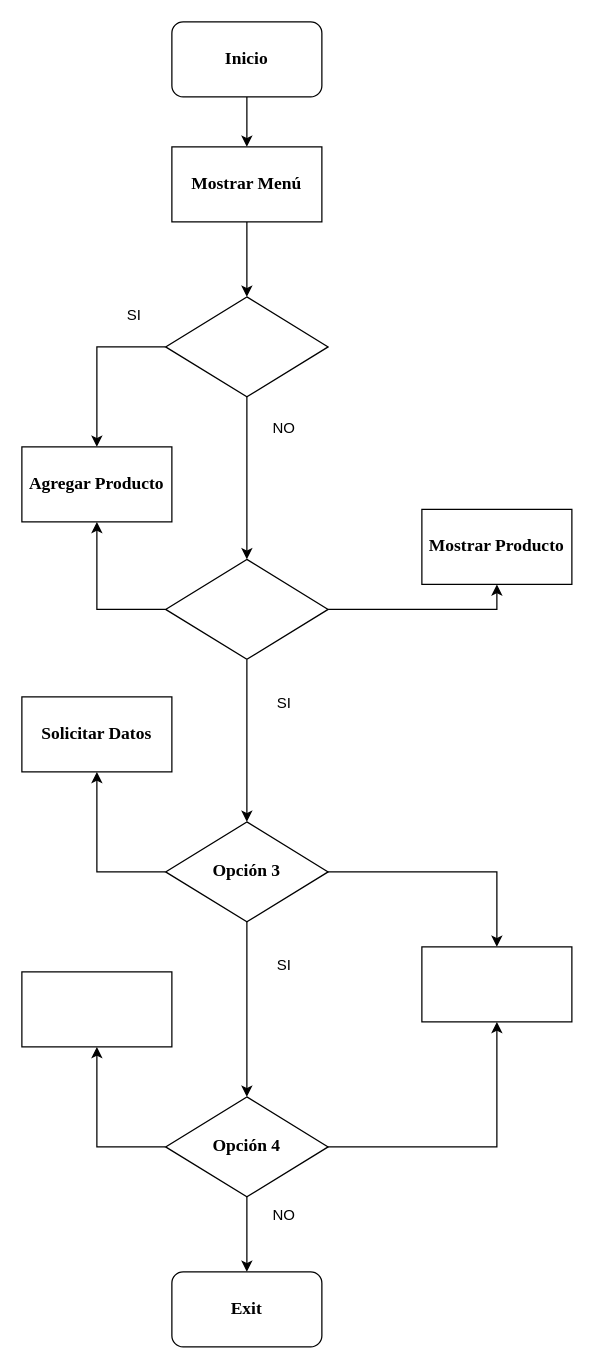
The diagram is 594 pixels wide and 1369 high, and some of its shapes have lost their labels. The centre of each missing label's shape, as x and y in pixels:
Actualizar Producto: the point at 96,1009
Buscar Producto: the point at 496,984
Opción 1: the point at 246,346
Opción 2: the point at 246,608
